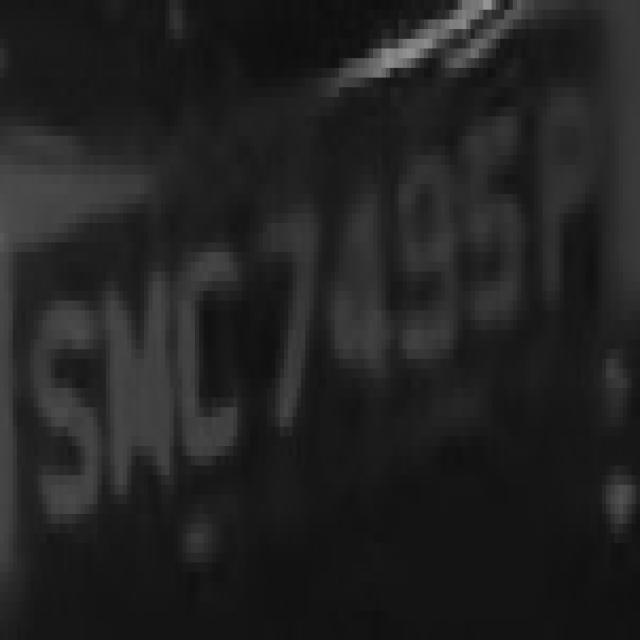4: (318, 155, 394, 407)
5: (445, 78, 521, 378)
7: (242, 175, 322, 475)
9: (386, 106, 458, 426)
C: (178, 204, 250, 514)
M: (89, 223, 178, 514)
P: (526, 49, 610, 349)
S: (30, 282, 93, 534)
